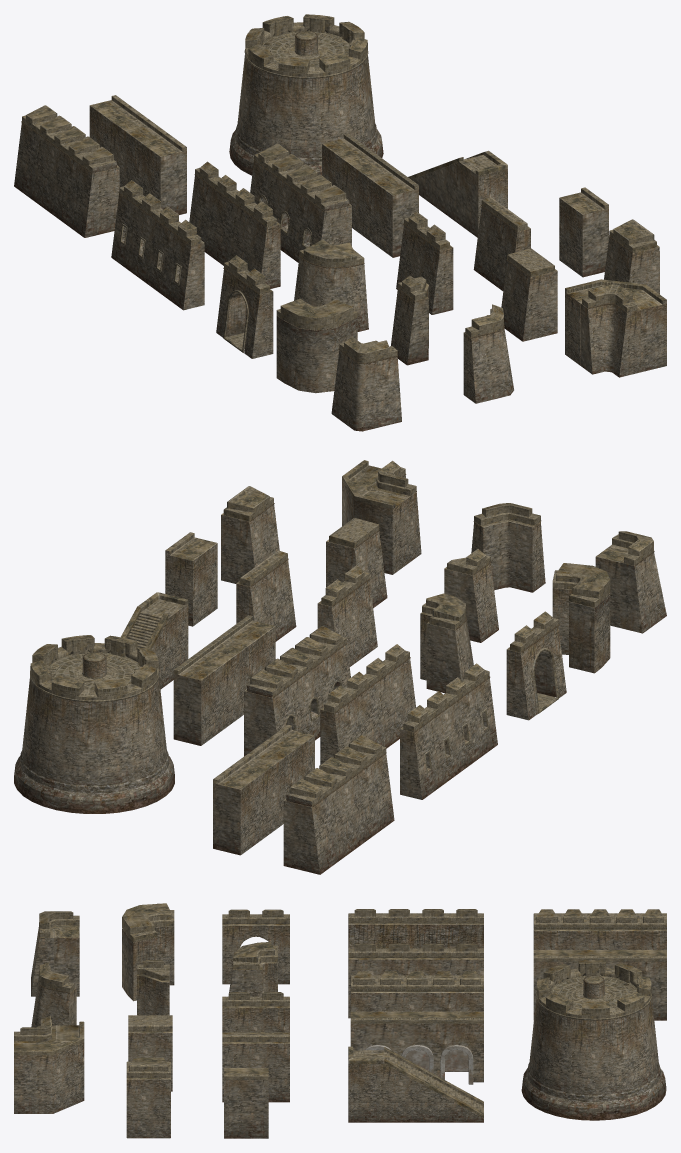
Rendered from modular_fort_01.gltf.
The picture shows the model from 3 angles, top to bottom: view 1: azimuth 30°, elevation 25°; view 2: azimuth 150°, elevation 25°; view 3: azimuth 270°, elevation 25°; orthographic projection. The views are drawn at different scales.
Size of the model in its own units: 42.67 by 13.67 by 71.38.
Materials: 3 (3 with a texture image).
